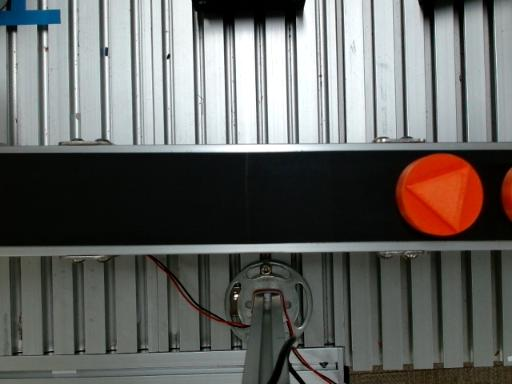Not_Square: (405, 166, 469, 234)
Orange_Waper: (396, 154, 483, 236), (502, 168, 511, 220)
